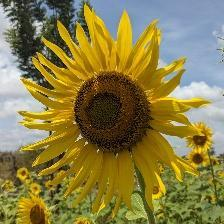sunflower: (21, 2, 213, 220), (18, 194, 54, 224), (186, 119, 217, 150), (188, 149, 212, 170), (146, 182, 167, 201), (17, 167, 31, 184), (30, 181, 43, 197), (76, 216, 92, 224)
